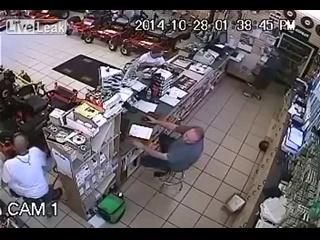Normal: (130, 114, 205, 178), (1, 132, 54, 204)
